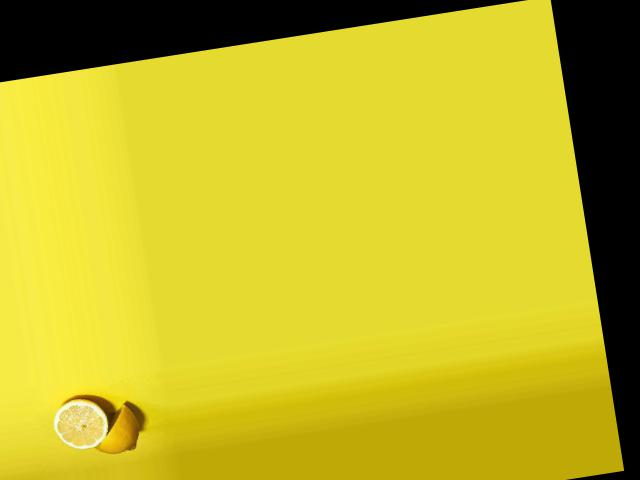lemon: (86, 395, 145, 458)
